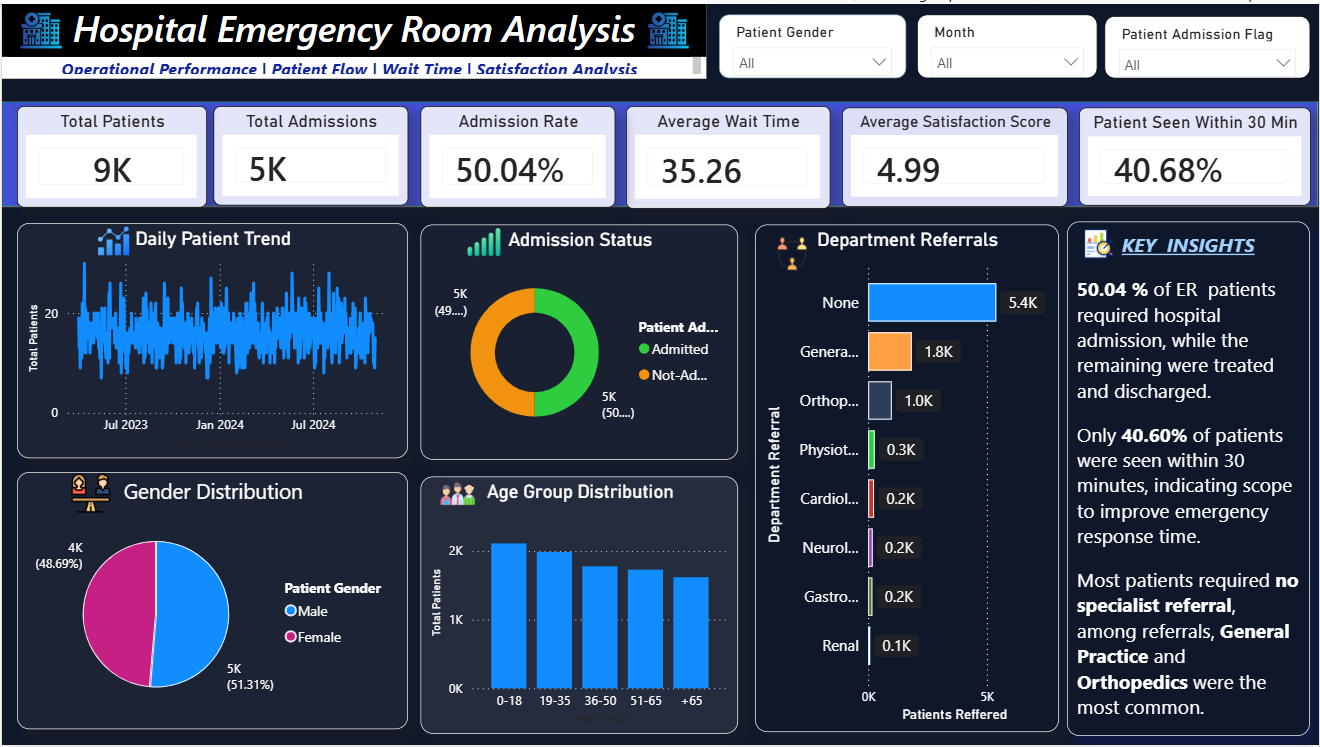

What the dashboard file says about the page in this screenshot:
{"tool":"powerbi","page":{"name":"Page 1","canvas":[1280,720],"ordinal":0},"visuals":[{"type":"shape","box":[684.4,0,595.1,84.8],"z":0},{"type":"shape","box":[0,95.4,1279.5,103],"z":1000},{"type":"cardVisual","title":"Average Wait Time","fields":{"Data":["Hospital Emergency Room Data.Average Wait Time"]},"box":[607.2,98.4,198.4,99.9],"z":2000},{"type":"cardVisual","title":"Total Patients","fields":{"Data":["Hospital Emergency Room Data.Total Patients"]},"box":[15.1,98.4,184.7,98.4],"z":3000},{"type":"cardVisual","title":"Average Satisfaction Score","fields":{"Data":["Hospital Emergency Room Data.Average Satisfsction Score"]},"box":[816.2,99.9,219.6,96.9],"z":4000},{"type":"cardVisual","title":"Total Admissions","fields":{"Data":["Hospital Emergency Room Data.Total Admissions"]},"box":[205.9,98.4,189.3,96.9],"z":5000},{"type":"cardVisual","title":"Admission Rate","fields":{"Data":["Hospital Emergency Room Data.Admission Rate %"]},"box":[407.3,98.4,189.3,98.4],"z":6000},{"type":"cardVisual","title":"Patient Seen Within 30 Min","fields":{"Data":["Hospital Emergency Room Data.Patients Seen Within 30 Minutes %"]},"box":[1046.3,99.9,225.6,95.4],"z":7000},{"type":"lineChart","title":"Daily Patient Trend","fields":{"Category":["Hospital Emergency Room Data.Patient Admission Date","Calendar.Date.Variation.Date Hierarchy.Quarter","Calendar.Date.Variation.Date Hierarchy.Month","Calendar.Date.Variation.Date Hierarchy.Day"],"Y":["Hospital Emergency Room Data.Total Patients"]},"box":[15.1,213.5,380.1,228.6],"z":8000},{"type":"donutChart","title":"Admission Status","fields":{"Category":["Hospital Emergency Room Data.Patient Admission Flag"],"Y":["Hospital Emergency Room Data.Total Patients"]},"box":[407.3,215,308.9,228.6],"z":9000},{"type":"clusteredColumnChart","title":"Age  Group Distribution","fields":{"Category":["Hospital Emergency Room Data.Age Group"],"Y":["Hospital Emergency Room Data.Total Patients"]},"box":[407.3,458.8,308.9,249.8],"z":10000},{"type":"pieChart","title":"Gender Distribution","fields":{"Category":["Hospital Emergency Room Data.Patient Gender"],"Y":["Hospital Emergency Room Data.Total Patients"]},"box":[15.1,454.3,380.1,249.8],"z":11000},{"type":"barChart","title":"Department Referrals","fields":{"Category":["Hospital Emergency Room Data.Department Referral"],"Y":["Hospital Emergency Room Data.Total Patients"]},"box":[731.4,215,295.3,493.6],"z":12000},{"type":"slicer","fields":{"Values":["Calendar.Month_Name"]},"box":[888.8,10.6,175.6,62.1],"z":13000},{"type":"slicer","fields":{"Values":["Hospital Emergency Room Data.Patient Gender"]},"box":[696.5,10.6,181.7,62.1],"z":14000},{"type":"slicer","fields":{"Values":["Hospital Emergency Room Data.Patient Admission Flag"]},"box":[1072.1,12.1,199.9,60.6],"z":15000},{"type":"textbox","title":"Hospital Emergency Room Analysis","box":[0,0,684.4,72.7],"z":16000},{"type":"textbox","box":[1035.7,212,236.2,499.7],"z":17000},{"type":"image","box":[0,4.5,75.7,42.4],"z":18000},{"type":"image","box":[75.7,215,65.1,31.8],"z":19000},{"type":"image","box":[1040.3,218,50,28.8],"z":20000},{"type":"image","box":[749.5,225.6,37.9,33.3],"z":21000},{"type":"image","box":[424,458.8,37.9,33.3],"z":22000},{"type":"image","box":[434.6,204.4,68.1,54.5],"z":23000},{"type":"image","box":[62.1,455.8,46.9,37.9],"z":24000},{"type":"image","box":[608.7,4.5,75.7,42.4],"z":25000}]}

Visuals, with their boxes in screenshot pixels (x1, y1, x2, y2), scaled from the page's 1280x720 canvas onto the 1320x747 screenshot:
shape: {"x1": 706, "y1": 0, "x2": 1319, "y2": 88}
shape: {"x1": 0, "y1": 99, "x2": 1319, "y2": 206}
"Average Wait Time" cardVisual: {"x1": 626, "y1": 102, "x2": 831, "y2": 206}
"Total Patients" cardVisual: {"x1": 16, "y1": 102, "x2": 206, "y2": 204}
"Average Satisfaction Score" cardVisual: {"x1": 842, "y1": 104, "x2": 1068, "y2": 204}
"Total Admissions" cardVisual: {"x1": 212, "y1": 102, "x2": 408, "y2": 203}
"Admission Rate" cardVisual: {"x1": 420, "y1": 102, "x2": 615, "y2": 204}
"Patient Seen Within 30 Min" cardVisual: {"x1": 1079, "y1": 104, "x2": 1312, "y2": 203}
"Daily Patient Trend" lineChart: {"x1": 16, "y1": 222, "x2": 408, "y2": 459}
"Admission Status" donutChart: {"x1": 420, "y1": 223, "x2": 739, "y2": 460}
"Age  Group Distribution" clusteredColumnChart: {"x1": 420, "y1": 476, "x2": 739, "y2": 735}
"Gender Distribution" pieChart: {"x1": 16, "y1": 471, "x2": 408, "y2": 731}
"Department Referrals" barChart: {"x1": 754, "y1": 223, "x2": 1059, "y2": 735}
slicer - Calendar.Month_Name: {"x1": 917, "y1": 11, "x2": 1098, "y2": 75}
slicer - Hospital Emergency Room Data.Patient Gender: {"x1": 718, "y1": 11, "x2": 906, "y2": 75}
slicer - Hospital Emergency Room Data.Patient Admission Flag: {"x1": 1106, "y1": 13, "x2": 1312, "y2": 75}
"Hospital Emergency Room Analysis" textbox: {"x1": 0, "y1": 0, "x2": 706, "y2": 75}
textbox: {"x1": 1068, "y1": 220, "x2": 1312, "y2": 738}
image: {"x1": 0, "y1": 5, "x2": 78, "y2": 49}
image: {"x1": 78, "y1": 223, "x2": 145, "y2": 256}
image: {"x1": 1073, "y1": 226, "x2": 1124, "y2": 256}
image: {"x1": 773, "y1": 234, "x2": 812, "y2": 269}
image: {"x1": 437, "y1": 476, "x2": 476, "y2": 511}
image: {"x1": 448, "y1": 212, "x2": 518, "y2": 269}
image: {"x1": 64, "y1": 473, "x2": 112, "y2": 512}
image: {"x1": 628, "y1": 5, "x2": 706, "y2": 49}
